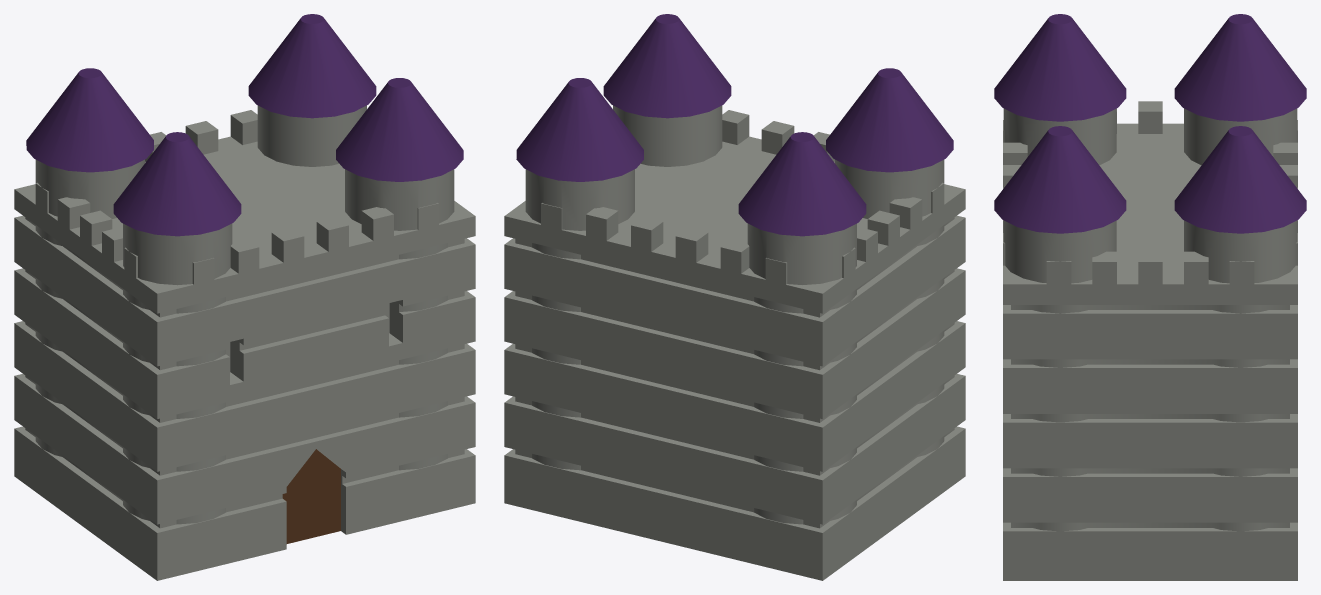
Rendered from burg_indigo.glb.
The picture shows the model from 3 angles, left to right: view 1: azimuth 30°, elevation 25°; view 2: azimuth 150°, elevation 25°; view 3: azimuth 270°, elevation 25°; orthographic projection. The views are drawn at different scales.
Visible parts, largest first — view 1: burg_indigo; view 2: burg_indigo; view 3: burg_indigo.
Part boxes in pixels (bbox=[...]): burg_indigo: bbox=[14, 14, 475, 580]; burg_indigo: bbox=[504, 14, 965, 580]; burg_indigo: bbox=[994, 14, 1306, 580].
Size of the model in its own units: 14.6 by 17.18 by 11.43.
